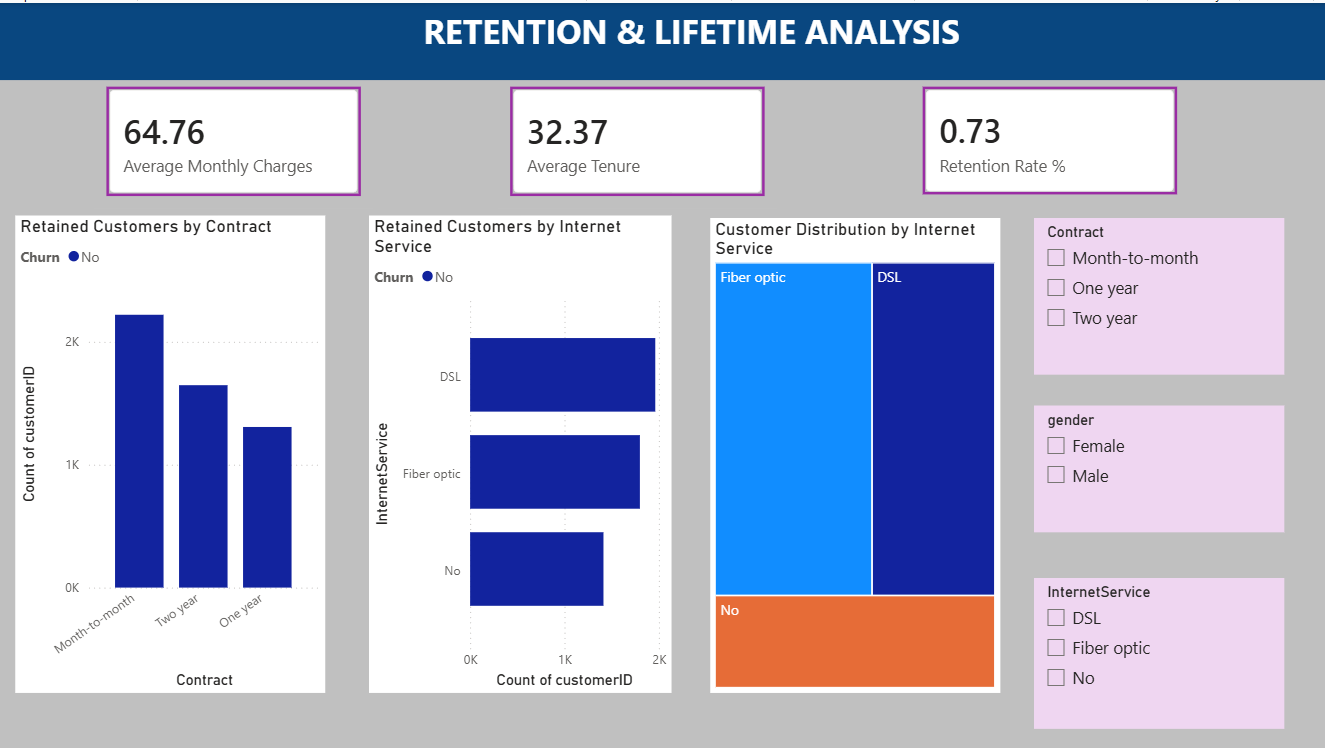

The dashboard page shown, as its layout file describes it:
{"tool":"powerbi","page":{"name":"Page 2","canvas":[1280,720],"ordinal":1},"visuals":[{"type":"clusteredColumnChart","title":"Retained Customers by Contract","fields":{"Category":["WA_Fn-UseC_-Telco-Customer-Churn.Contract"],"Y":["CountNonNull(WA_Fn-UseC_-Telco-Customer-Churn.customerID)"],"Series":["WA_Fn-UseC_-Telco-Customer-Churn.Churn"]},"box":[15.7,205.1,299.2,460.9],"z":0},{"type":"clusteredBarChart","title":"Retained Customers by Internet Service","fields":{"Category":["WA_Fn-UseC_-Telco-Customer-Churn.InternetService"],"Y":["CountNonNull(WA_Fn-UseC_-Telco-Customer-Churn.customerID)"],"Series":["WA_Fn-UseC_-Telco-Customer-Churn.Churn"]},"box":[357.1,205.1,292,460.9],"z":1000},{"type":"treemap","title":"Customer Distribution by Internet Service","fields":{"Values":["CountNonNull(WA_Fn-UseC_-Telco-Customer-Churn.customerID)"],"Group":["WA_Fn-UseC_-Telco-Customer-Churn.InternetService"]},"box":[686.5,207.5,279.9,458.4],"z":4000},{"type":"cardVisual","fields":{"Data":["WA_Fn-UseC_-Telco-Customer-Churn.Average Monthly Charges"]},"box":[86.4,64.5,279.9,140],"z":5000},{"type":"cardVisual","fields":{"Data":["WA_Fn-UseC_-Telco-Customer-Churn.Average Tenure"]},"box":[476.2,64.5,279.9,140],"z":6000},{"type":"cardVisual","fields":{"Data":["WA_Fn-UseC_-Telco-Customer-Churn.Retention Rate %"]},"box":[874.1,64.5,279.9,138.6],"z":7000},{"type":"slicer","fields":{"Values":["WA_Fn-UseC_-Telco-Customer-Churn.Contract"]},"box":[999,207.2,241.5,150.9],"z":8000},{"type":"slicer","fields":{"Values":["WA_Fn-UseC_-Telco-Customer-Churn.InternetService"]},"box":[999,554.4,241.5,145.5],"z":9000},{"type":"slicer","fields":{"Values":["WA_Fn-UseC_-Telco-Customer-Churn.gender"]},"box":[999,388.3,241.5,122.1],"z":10000},{"type":"textbox","box":[0,0,1280.3,74.1],"z":10001}]}

Visuals, with their boxes in screenshot pixels (x1, y1, x2, y2), scaled from the page's 1280x720 canvas onto the 1325x748 screenshot:
"Retained Customers by Contract" clusteredColumnChart: [16, 213, 326, 692]
"Retained Customers by Internet Service" clusteredBarChart: [370, 213, 672, 692]
"Customer Distribution by Internet Service" treemap: [711, 216, 1000, 692]
cardVisual - WA_Fn-UseC_-Telco-Customer-Churn.Average Monthly Charges: [89, 67, 379, 212]
cardVisual - WA_Fn-UseC_-Telco-Customer-Churn.Average Tenure: [493, 67, 783, 212]
cardVisual - WA_Fn-UseC_-Telco-Customer-Churn.Retention Rate %: [905, 67, 1195, 211]
slicer - WA_Fn-UseC_-Telco-Customer-Churn.Contract: [1034, 215, 1284, 372]
slicer - WA_Fn-UseC_-Telco-Customer-Churn.InternetService: [1034, 576, 1284, 727]
slicer - WA_Fn-UseC_-Telco-Customer-Churn.gender: [1034, 403, 1284, 530]
textbox: [0, 0, 1324, 77]
